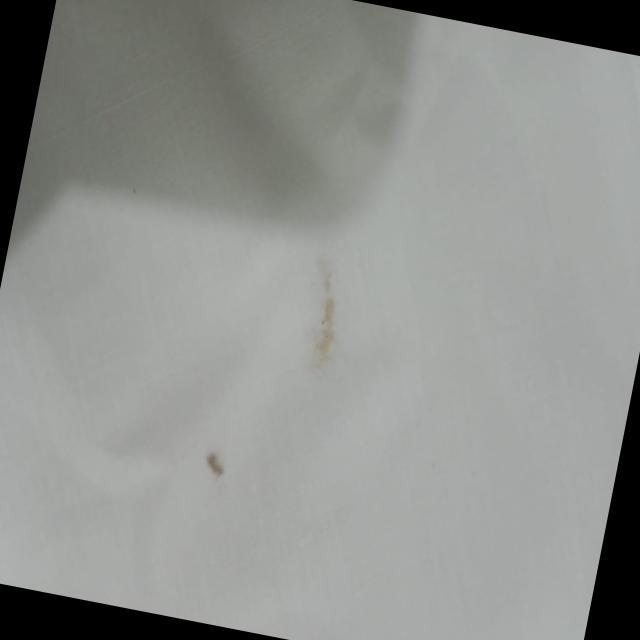stain: (290, 245, 360, 378), (194, 434, 242, 490)
